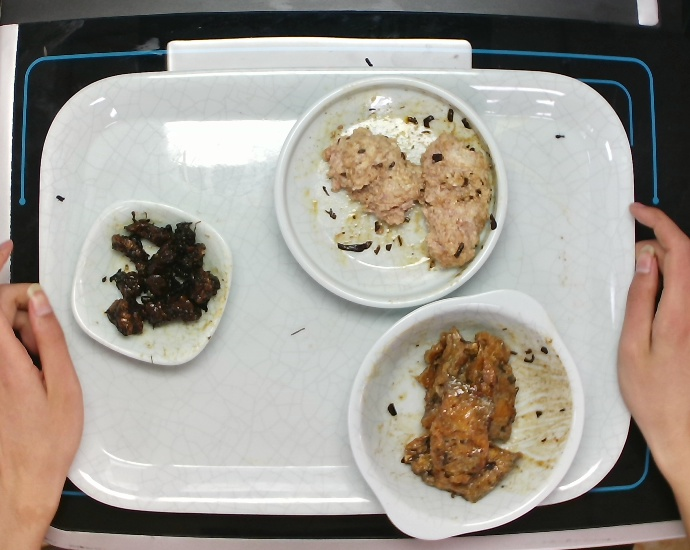JYsf-Shuang_Er_Wan: (349, 285, 587, 543)
JYsf-Si_Fang_Die: (73, 199, 238, 373)
JYsf-Xiao_Yuan_Pan: (271, 71, 510, 314)
